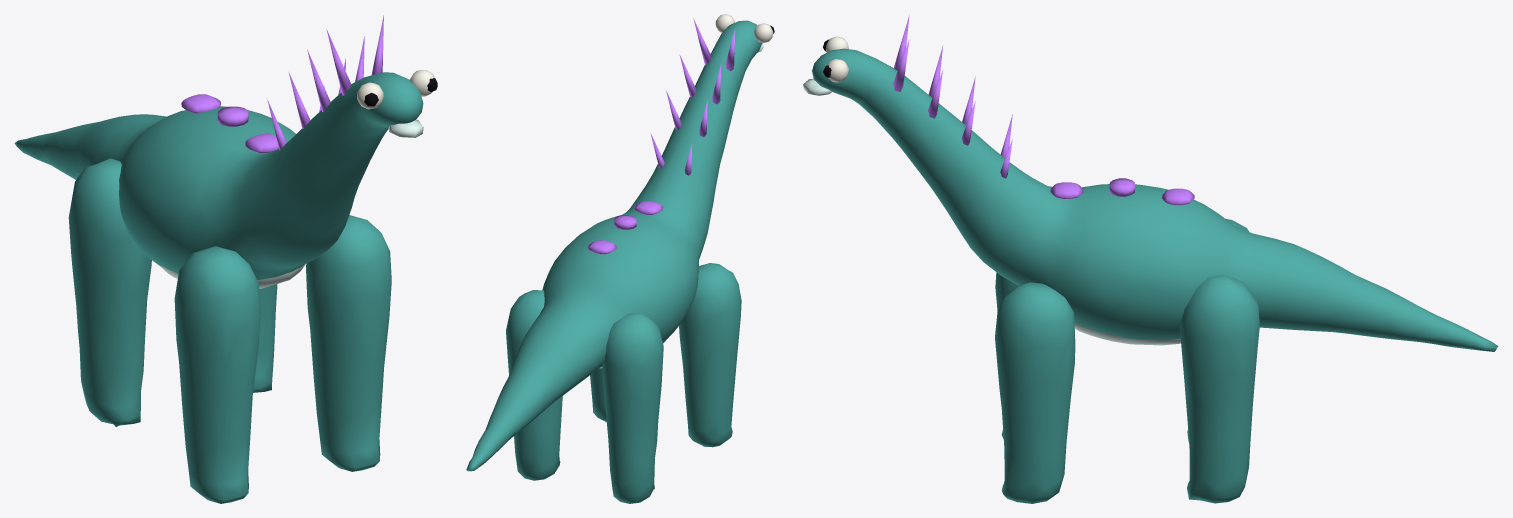
File: Dino_Amargasaurus.fbx
3 renders of one model, left to right at view 1: azimuth 30°, elevation 25°; view 2: azimuth 150°, elevation 25°; view 3: azimuth 270°, elevation 25°, orthographic. The views are drawn at different scales.
Parts seen in each view (by area): view 1: Body, LegFL, LegFR, LegBL, Accent, LegBR, Belly, EyeWhite; view 2: Body, LegBL, LegFL, LegBR, Accent, LegFR, EyeWhite; view 3: Body, LegBR, LegFR, Accent, Belly.
Part boxes in pixels (x1=…): Body: x1=14, y1=72, x2=423, y2=279; LegFL: x1=174, y1=246, x2=260, y2=503; LegFR: x1=306, y1=215, x2=391, y2=471; LegBL: x1=68, y1=158, x2=151, y2=426; Accent: x1=181, y1=15, x2=383, y2=153; LegBR: x1=253, y1=284, x2=277, y2=392; Belly: x1=160, y1=119, x2=423, y2=288; EyeWhite: x1=357, y1=70, x2=434, y2=109; Body: x1=466, y1=20, x2=762, y2=471; LegBL: x1=602, y1=313, x2=663, y2=503; LegFL: x1=679, y1=263, x2=741, y2=447; LegBR: x1=506, y1=290, x2=562, y2=480; Accent: x1=588, y1=19, x2=735, y2=254; LegFR: x1=590, y1=368, x2=606, y2=421; EyeWhite: x1=715, y1=14, x2=773, y2=42; Body: x1=812, y1=48, x2=1498, y2=351; LegBR: x1=1179, y1=274, x2=1259, y2=503; LegFR: x1=995, y1=282, x2=1075, y2=503; Accent: x1=893, y1=14, x2=1194, y2=205; Belly: x1=803, y1=78, x2=1180, y2=345.
Bounding box in the file's own units: 2.97 × 7.06 × 9.99.
